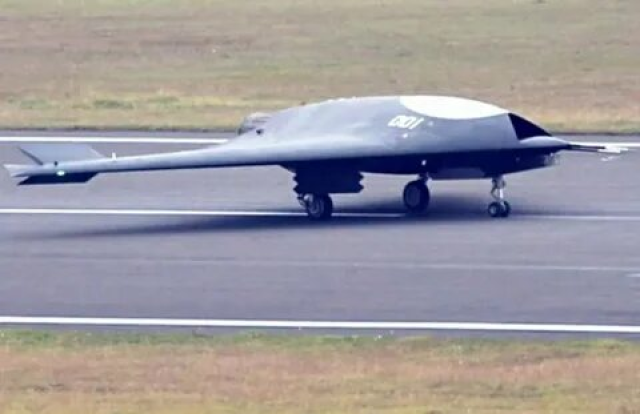military drone: (3, 94, 605, 219)
